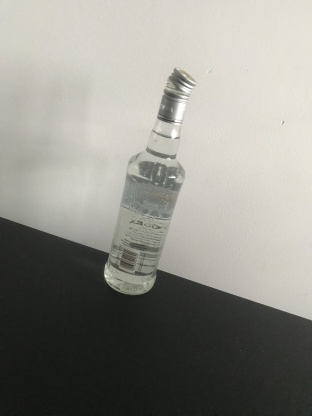nakretka: (155, 65, 197, 127)
